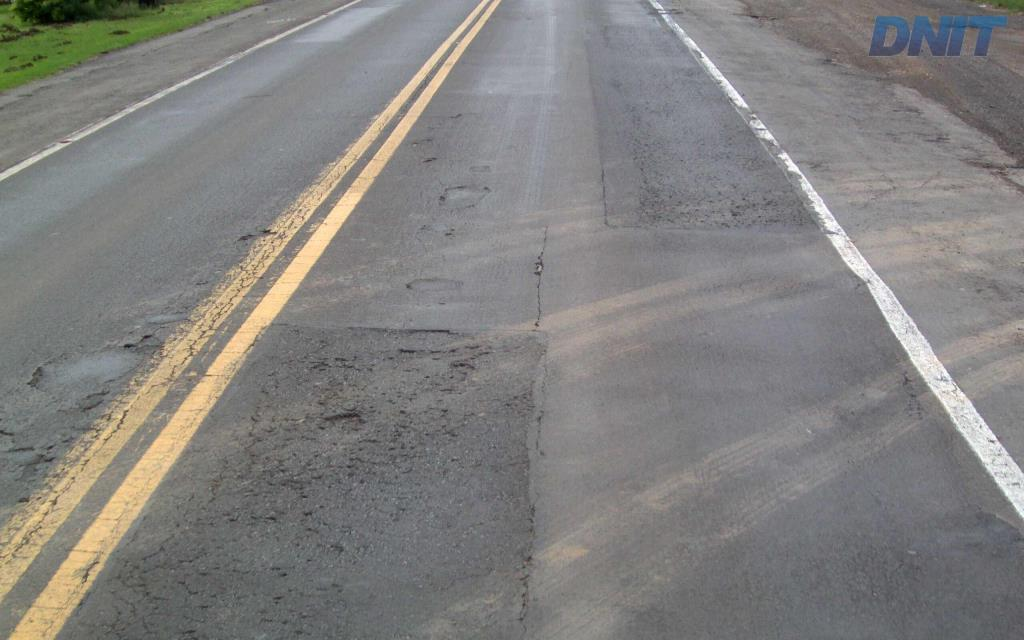crack: (221, 446, 427, 530), (110, 543, 261, 616), (294, 504, 331, 540)
pothole: (316, 407, 375, 435)
